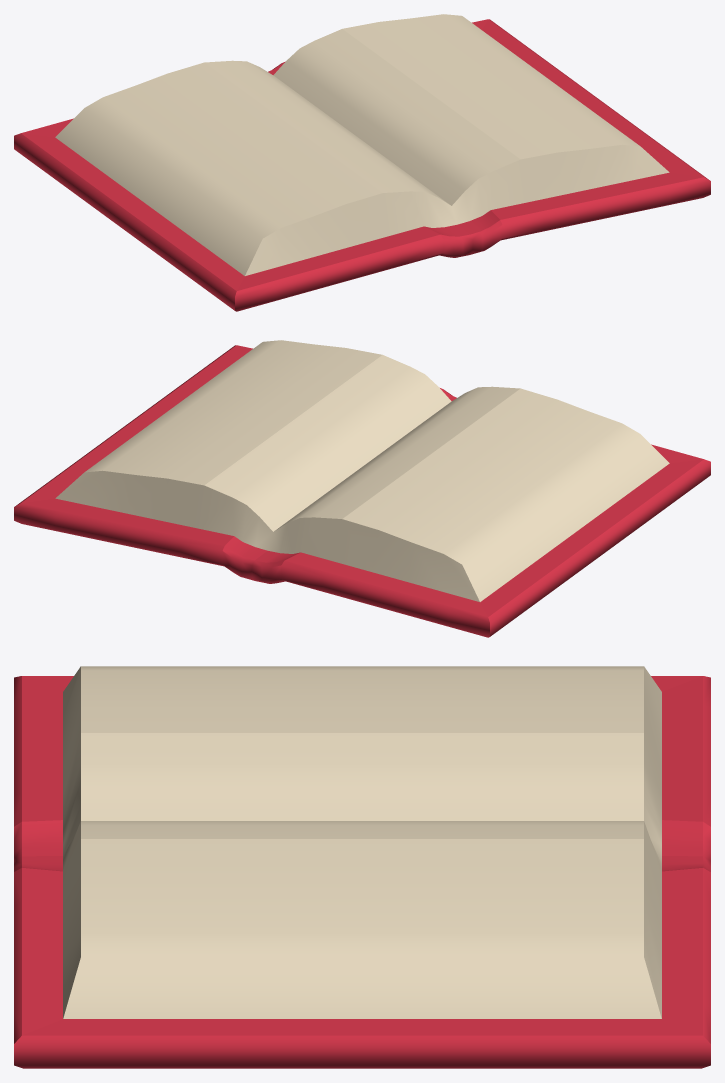
The model's file is Book.fbx.
The picture shows the model from 3 angles, top to bottom: view 1: azimuth 30°, elevation 25°; view 2: azimuth 150°, elevation 25°; view 3: azimuth 270°, elevation 25°; orthographic projection. The views are drawn at different scales.
Visible parts, largest first — view 1: Book; view 2: Book; view 3: Book.
Boxes of the visible parts, box(x1,y1,x2,y2) form: Book: box(14, 14, 710, 311); Book: box(14, 340, 710, 637); Book: box(14, 666, 710, 1068).
Bounding box in the file's own units: 92.97 × 12.23 × 74.69.
